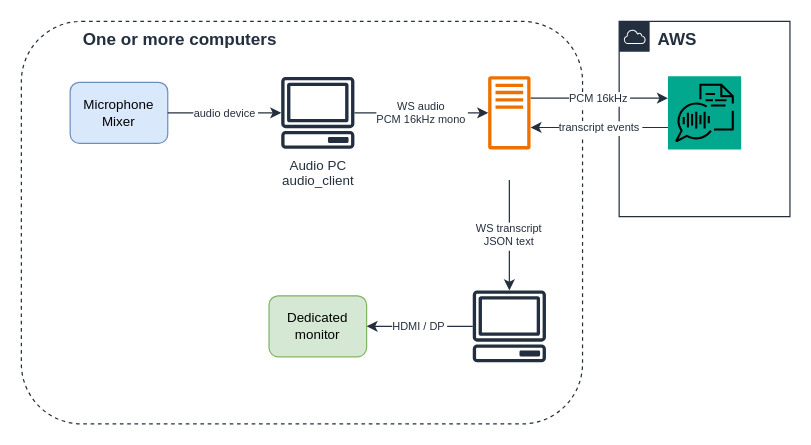
Some shapes in this 811 by 445 pixel diagram are drawn without their labels. The centre of each missing label's shape, as x and y in pixels:
AWS Transcribe Streaming: the point at 704,112
FastAPI Server: the point at 508,112
Monitor PC Browser: the point at 508,325
